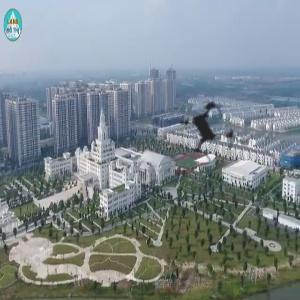drone: (141, 68, 270, 197)
